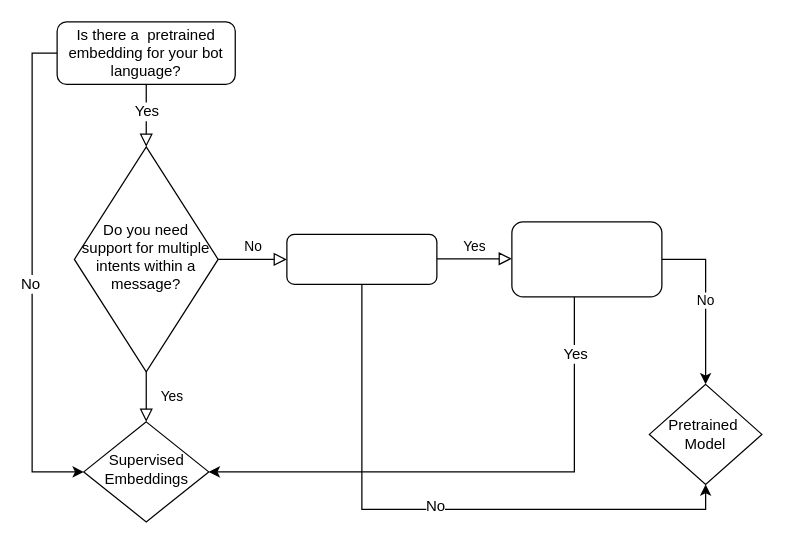
The diagram is 785 pixels wide and 544 high, and some of its shapes have lost their labels. The box of each missing label's shape, as (x1, y1, x2, y2) in pixels:
Do you have domain specific terms?: (286, 233, 437, 284)
Do you have enough training data?: (511, 221, 662, 297)
